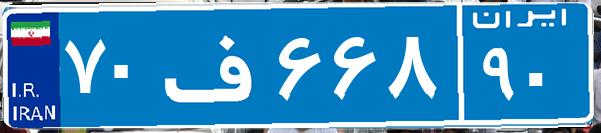0: (110, 28, 158, 105), (525, 38, 570, 115)
6: (273, 28, 330, 110), (330, 28, 385, 110)
7: (57, 26, 110, 107)
8: (385, 28, 445, 110)
9: (475, 38, 525, 113)
ف: (158, 15, 273, 115)
